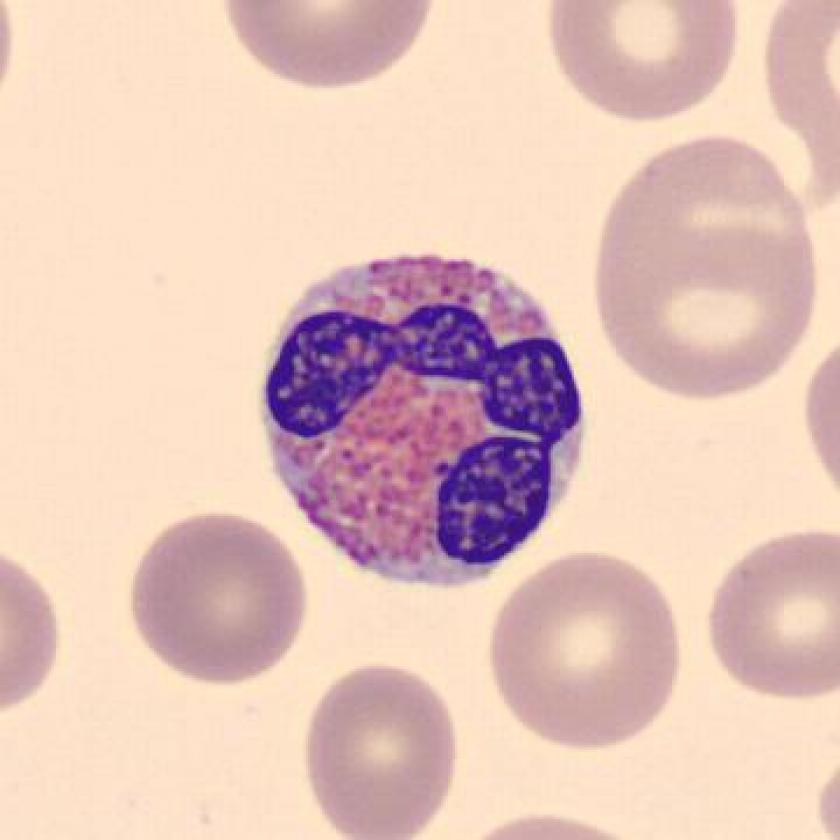eosinophil: (244, 237, 598, 603)
